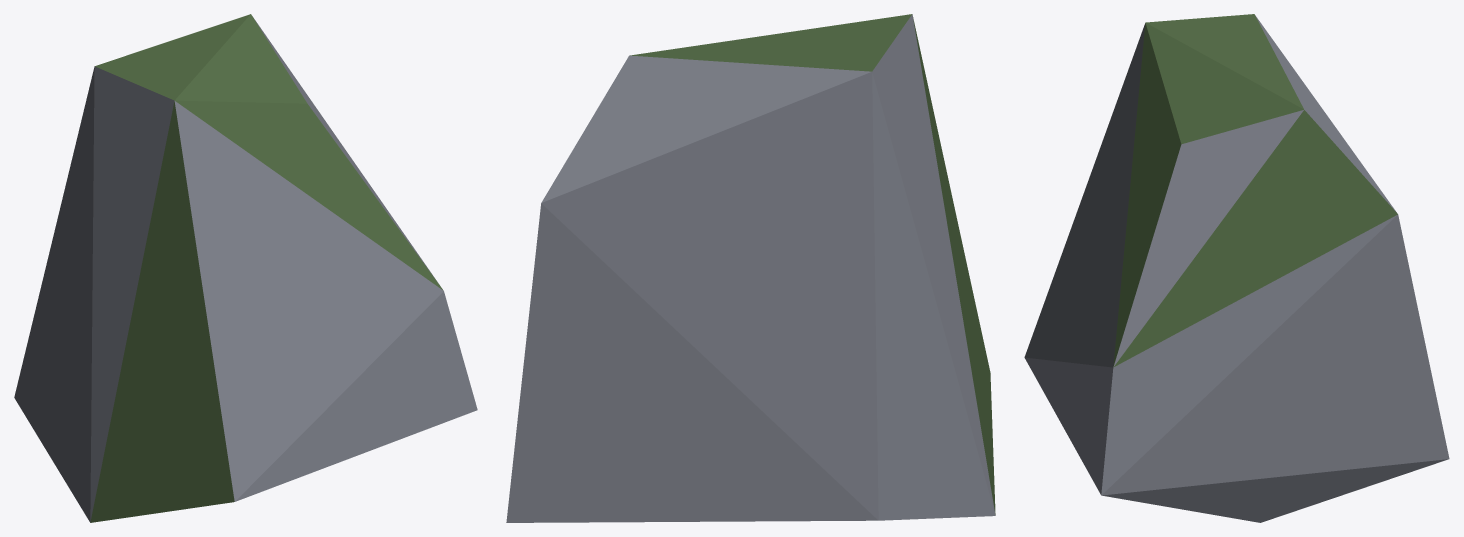
File: Rock_Moss_2.lod4.glb
The picture shows the model from 3 angles, left to right: view 1: azimuth 30°, elevation 25°; view 2: azimuth 150°, elevation 25°; view 3: azimuth 270°, elevation 25°; orthographic projection. The views are drawn at different scales.
Parts seen in each view (by area): view 1: Rock_Moss_2; view 2: Rock_Moss_2; view 3: Rock_Moss_2.
Part boxes in pixels (x1,y1,x2,y2): Rock_Moss_2: [14, 14, 477, 522]; Rock_Moss_2: [506, 14, 995, 522]; Rock_Moss_2: [1024, 14, 1449, 522].
Bounding box in the file's own units: 0.6059 × 0.6786 × 0.6557.
